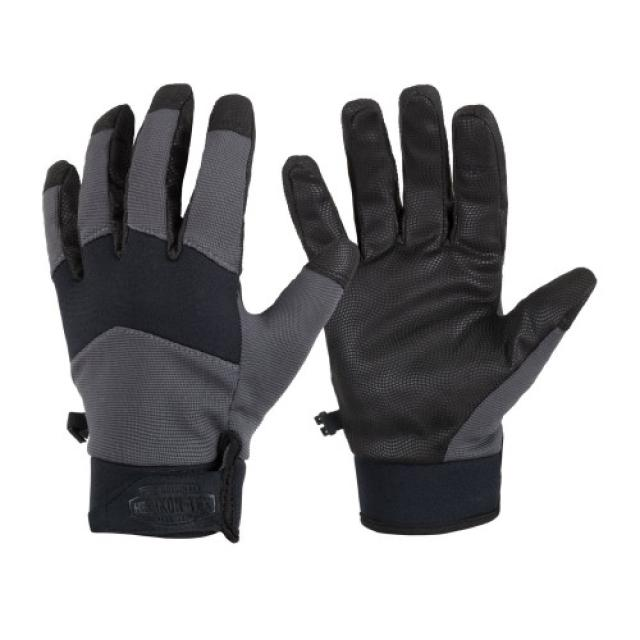gloves: (35, 77, 358, 553), (275, 76, 597, 542)
